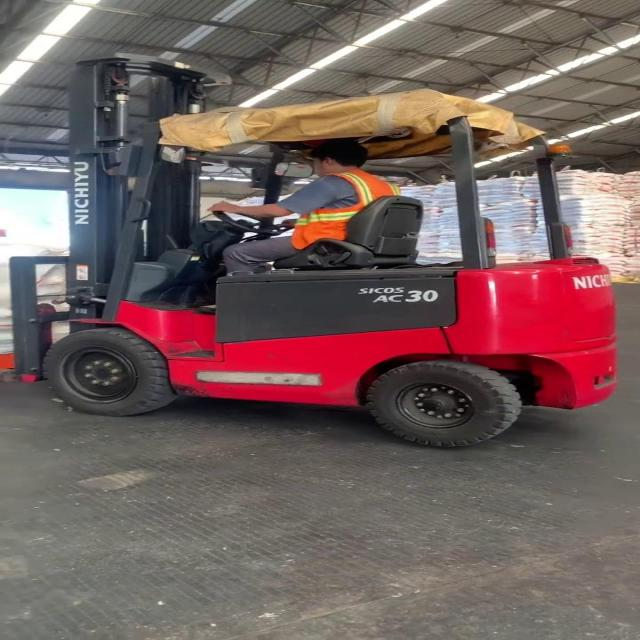forklift: (7, 47, 620, 447)
